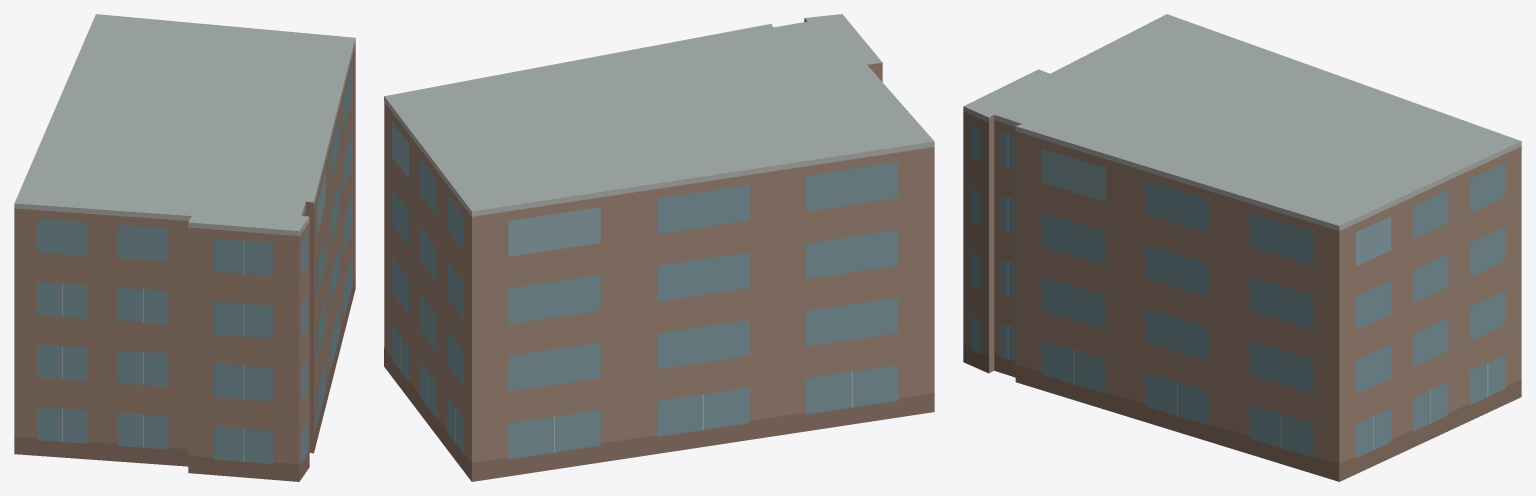
File: survey-upis-32728418.glb
3 views of the same model, side by side, from view 1: azimuth 30°, elevation 25°; view 2: azimuth 150°, elevation 25°; view 3: azimuth 270°, elevation 25° (orthographic). The views are drawn at different scales.
Parts seen in each view (by area): view 1: survey-upis-32728418.tmp; view 2: survey-upis-32728418.tmp; view 3: survey-upis-32728418.tmp.
Part boxes in pixels (x1,y1,x2,y2): survey-upis-32728418.tmp: (14, 14, 355, 481); survey-upis-32728418.tmp: (384, 14, 934, 481); survey-upis-32728418.tmp: (963, 14, 1521, 481).
Bounding box in the file's own units: 21.69 × 12.2 × 24.13.
